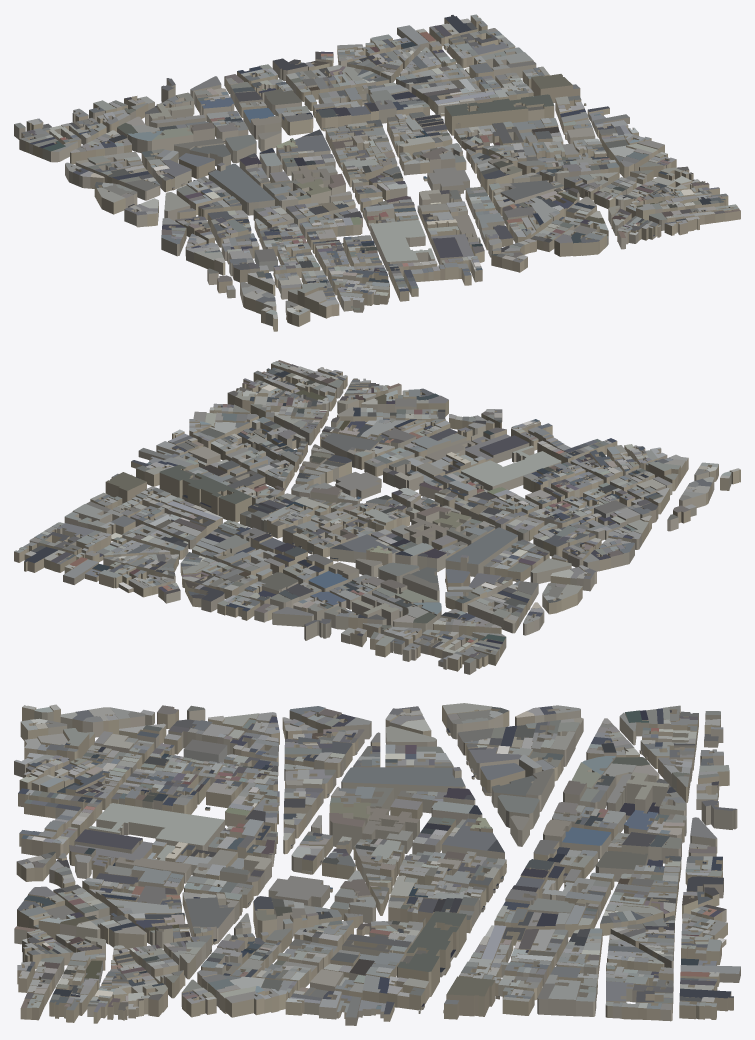
3 renders of one model, top to bottom at view 1: azimuth 30°, elevation 25°; view 2: azimuth 150°, elevation 25°; view 3: azimuth 270°, elevation 25°, orthographic. The views are drawn at different scales.
Parts seen in each view (by area): view 1: tuile; view 2: tuile; view 3: tuile.
Part boxes in pixels (<box>): tuile: <box>14,14,740,331</box>; tuile: <box>14,360,740,674</box>; tuile: <box>14,703,740,1025</box>.
Size of the model in its own units: 1048 by 48.09 by 1043.
